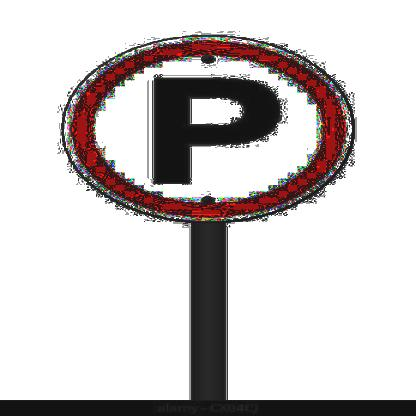Parking: (61, 40, 361, 226)
